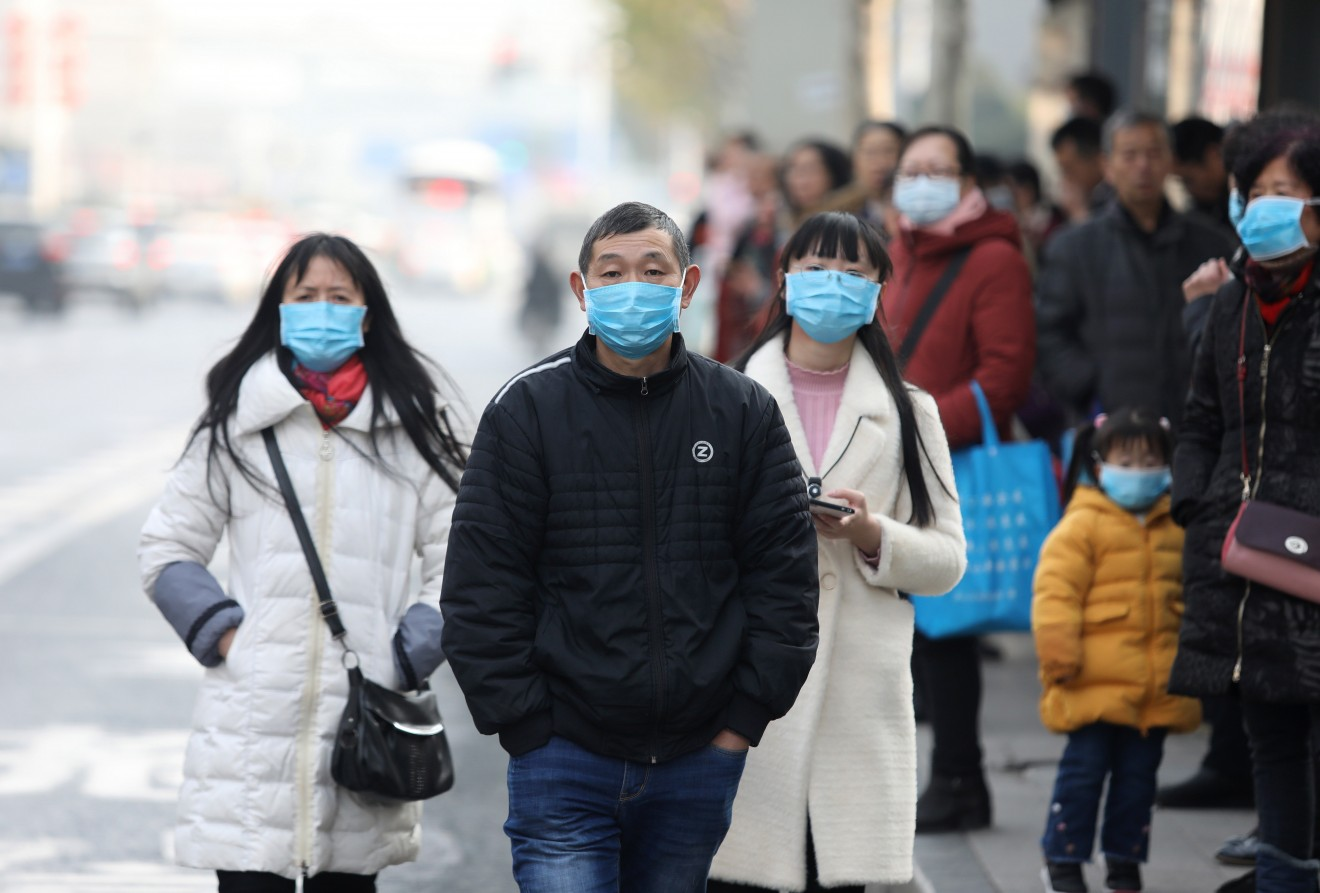surgical: (575, 278, 692, 365), (263, 298, 372, 376), (782, 263, 880, 340), (1224, 193, 1315, 270), (1089, 457, 1175, 512), (877, 171, 964, 223)
